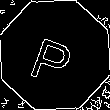P_N: (29, 25, 81, 85)
